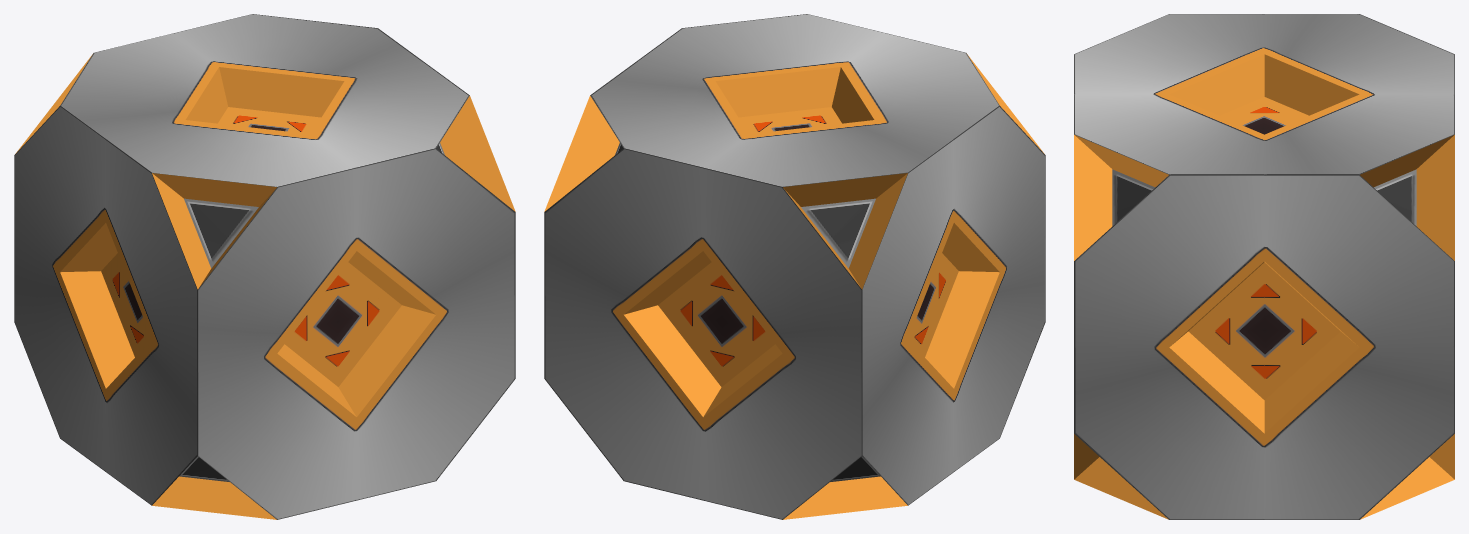
Rendered from hyper_item_receiver.obj.
3 views of the same model, side by side, from view 1: azimuth 30°, elevation 25°; view 2: azimuth 150°, elevation 25°; view 3: azimuth 270°, elevation 25° (orthographic). The views are drawn at different scales.
Visible parts, largest first — view 1: Cube; view 2: Cube; view 3: Cube.
Part boxes in pixels (x1,y1,x2,y2): Cube: (14,14,515,519); Cube: (544,14,1045,519); Cube: (1074,14,1454,519).
Size of the model in its own units: 1 by 1 by 1.
